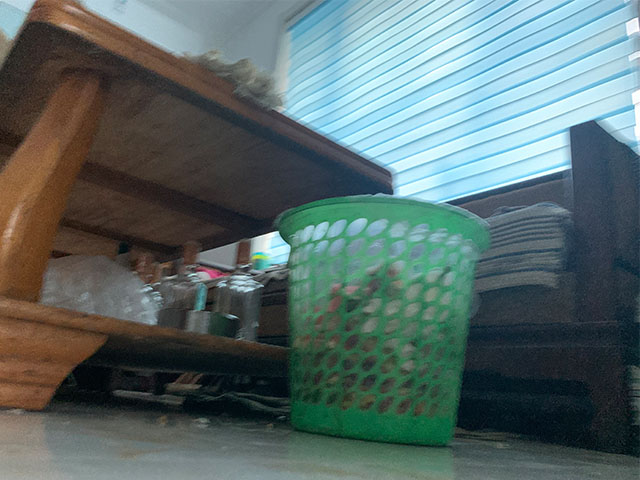sofa: (446, 115, 640, 455)
table: (1, 1, 395, 415)
trashcan: (268, 192, 492, 449)
